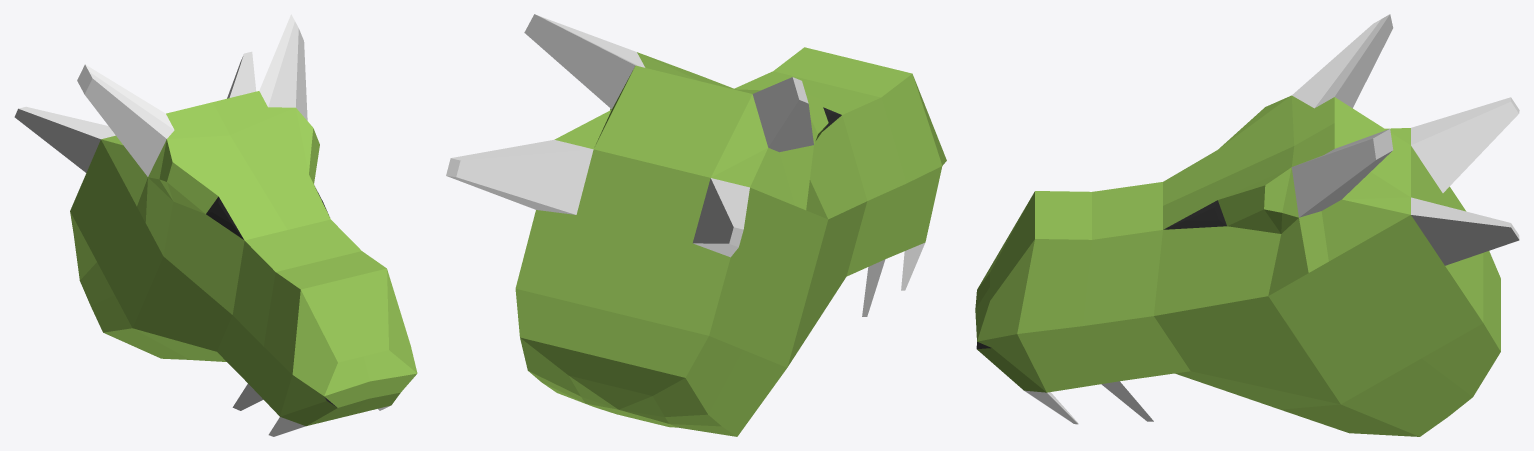
File: DragonHeadGreen.fbx
3 renders of one model, left to right at view 1: azimuth 30°, elevation 25°; view 2: azimuth 150°, elevation 25°; view 3: azimuth 270°, elevation 25°, orthographic. The views are drawn at different scales.
Parts seen in each view (by area): view 1: DragonHeadGreen; view 2: DragonHeadGreen; view 3: DragonHeadGreen.
Part boxes in pixels (<box>): DragonHeadGreen: <box>14,14,417,436</box>; DragonHeadGreen: <box>446,14,946,436</box>; DragonHeadGreen: <box>975,14,1519,436</box>.
Bounding box in the file's own units: 229 × 276 × 404.
Materials: 1 (1 with a texture image).
